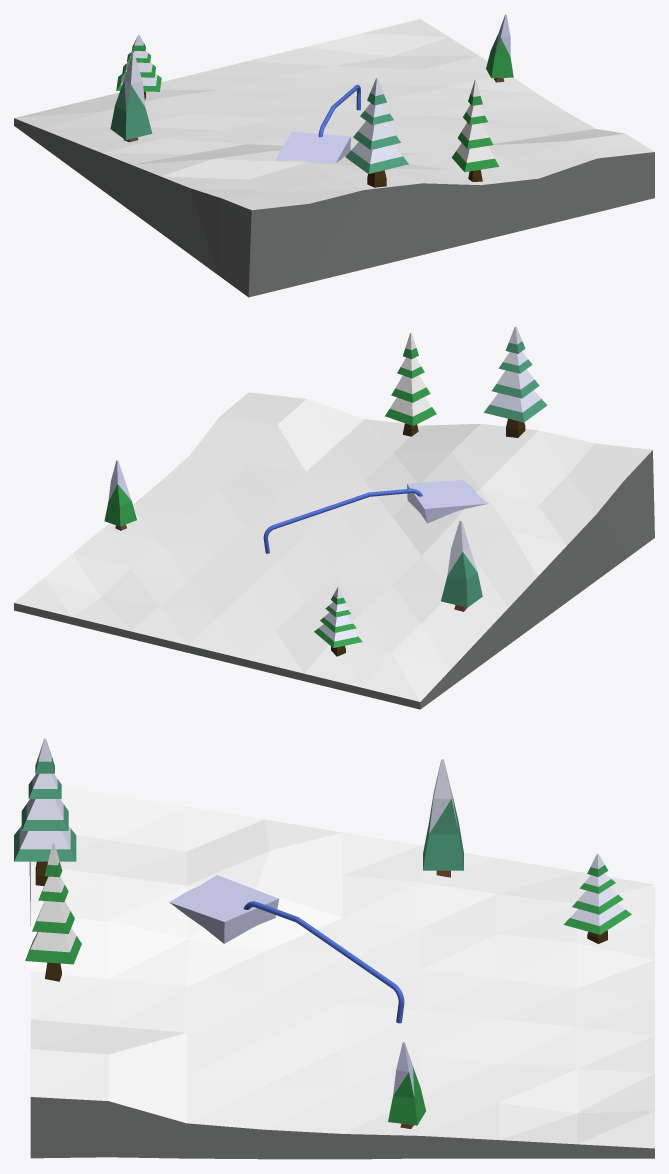
The model's file is flatDownRail.glb.
3 renders of one model, top to bottom at view 1: azimuth 30°, elevation 25°; view 2: azimuth 150°, elevation 25°; view 3: azimuth 270°, elevation 25°, orthographic. The views are drawn at different scales.
Parts seen in each view (by area): view 1: snow, Cube.001, Cube.003, Cube, first, Cube.004, Cube.002, rail; view 2: snow, Cube.001, Cube.003, first, Cube, Cube.002, Cube.004, rail; view 3: snow, Cube.001, first, Cube.003, Cube, Cube.002, Cube.004, rail.
Boxes of the visible parts, x1,y1,x2,y2 form: snow: [14, 19, 654, 297]; Cube.001: [345, 78, 408, 187]; Cube.003: [452, 79, 499, 181]; Cube: [110, 53, 152, 142]; first: [275, 131, 350, 163]; Cube.004: [486, 14, 513, 82]; Cube.002: [116, 35, 161, 99]; rail: [318, 84, 360, 137]; snow: [14, 392, 654, 709]; Cube.001: [484, 326, 547, 437]; Cube.003: [385, 332, 436, 436]; first: [407, 480, 488, 523]; Cube: [441, 520, 482, 611]; Cube.002: [314, 587, 362, 656]; Cube.004: [104, 460, 136, 530]; rail: [263, 488, 422, 553]; snow: [29, 780, 654, 1159]; Cube.001: [14, 738, 76, 886]; first: [169, 875, 279, 943]; Cube.003: [25, 842, 81, 981]; Cube: [423, 759, 463, 877]; Cube.002: [563, 853, 631, 943]; Cube.004: [388, 1042, 425, 1128]; rail: [243, 901, 404, 1023].
Bounding box in the file's own units: 12.69 × 5.47 × 13.03.
